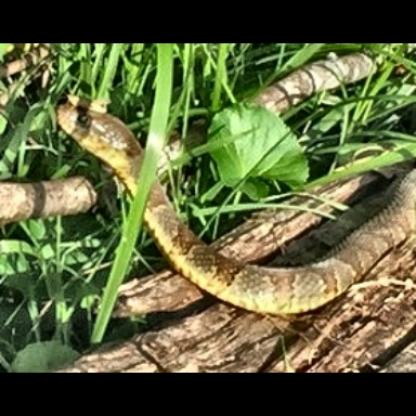Snake: (0, 83, 404, 336)
